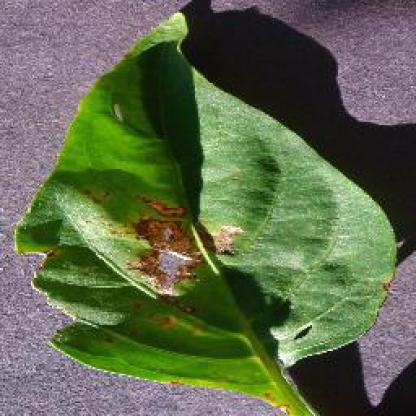bad leaf: (0, 18, 395, 393)
